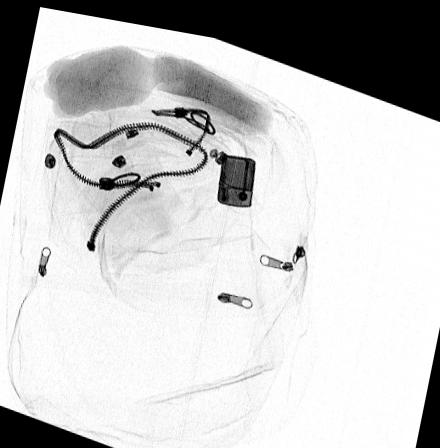Lighter: (216, 144, 256, 198)
